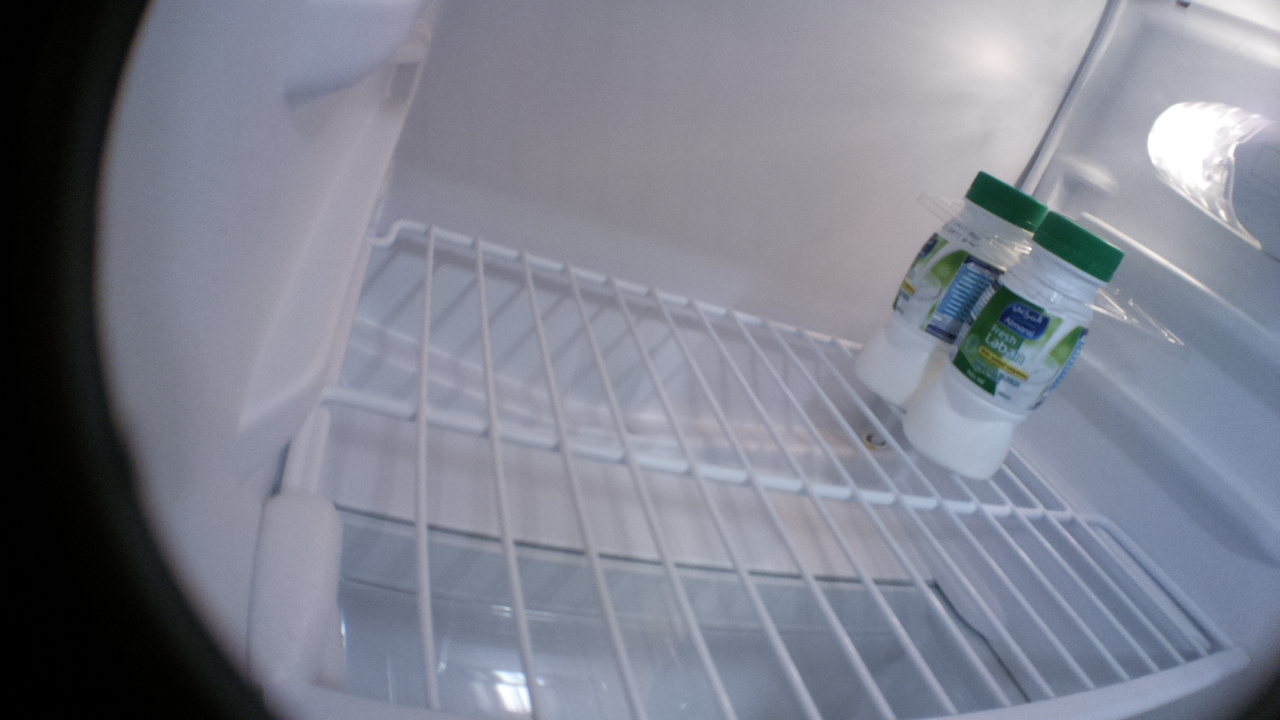laban: (827, 146, 1156, 485), (898, 210, 1125, 475), (855, 167, 1055, 404)
